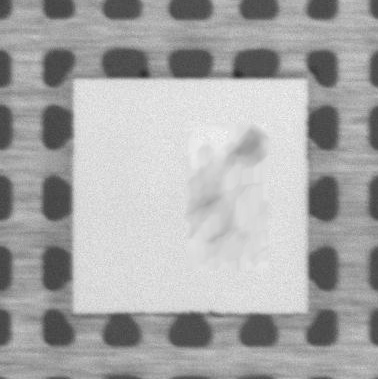DIE_INK: (182, 120, 271, 275)
